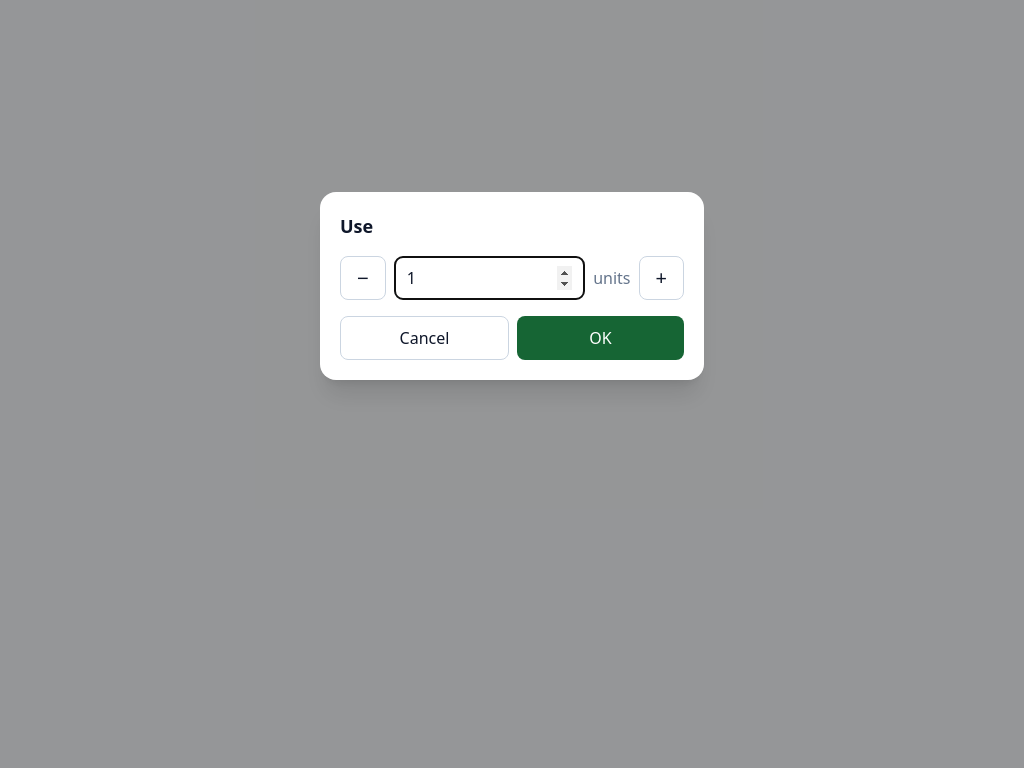
Test case: QtyDialog manual validation (noValidate) › shows an inline reason (role=alert) when the value is invalid
Clear the number field named "Quantity" at (489, 278), box [394,256,585,300]
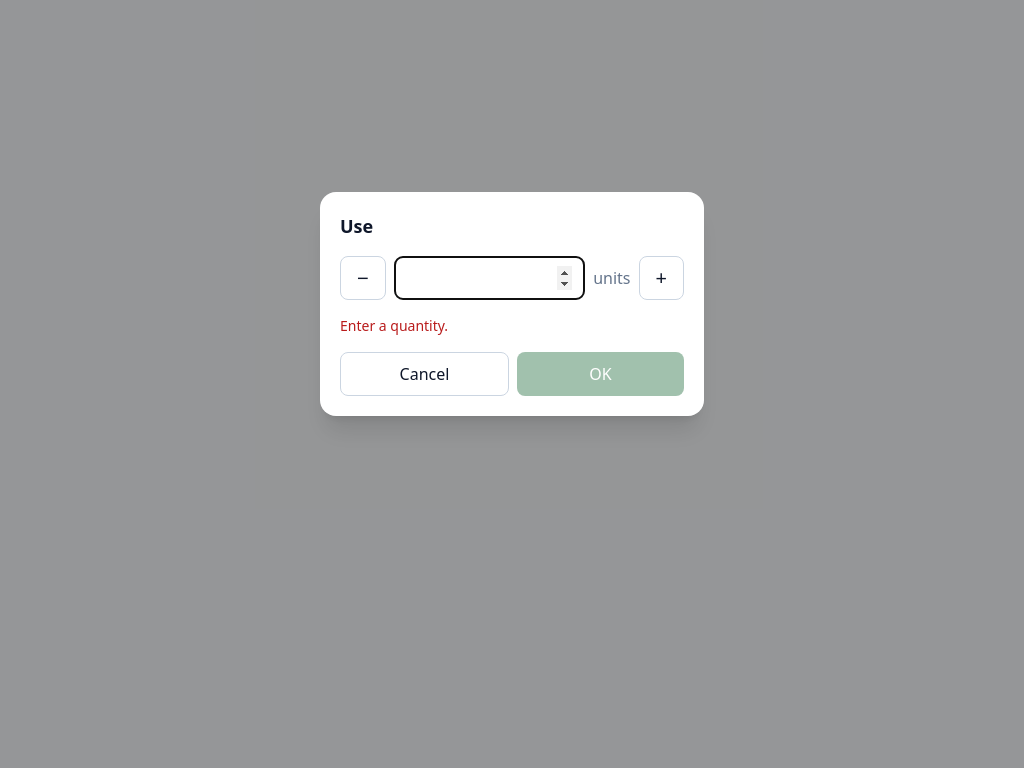
Expected: the message shows ".", [340,316,448,335]
Type "1.2345" into the number field named "Quantity" at (489, 278), box [394,256,585,300]
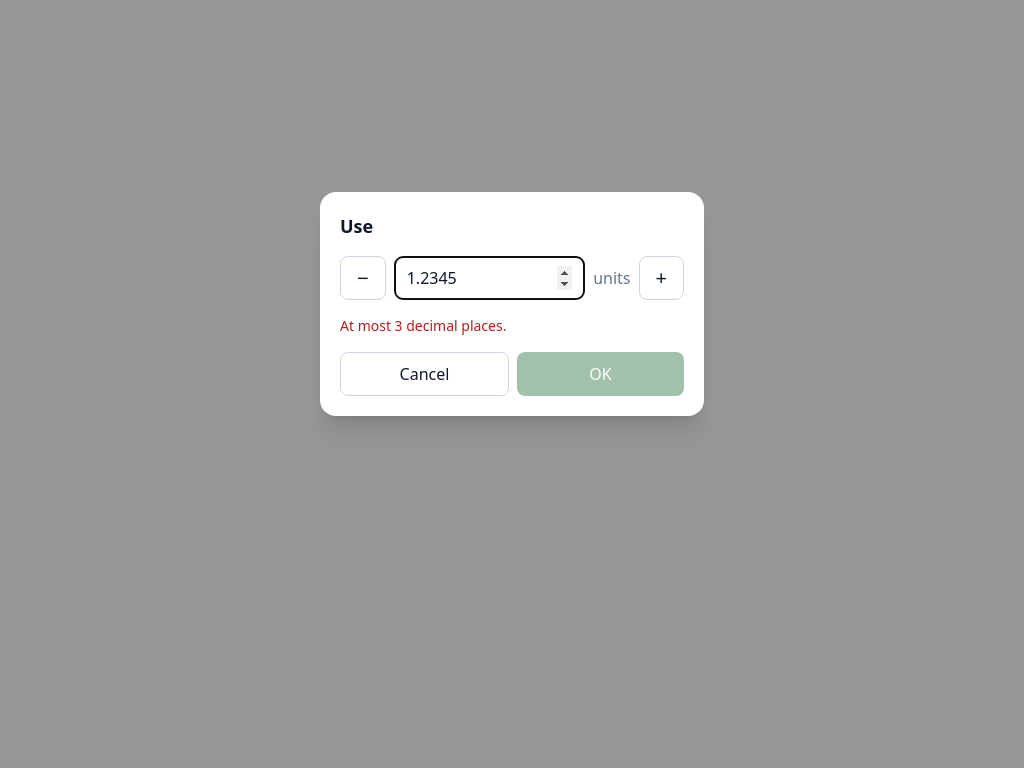
Expected: the message shows "decimal", [340,316,506,335]
